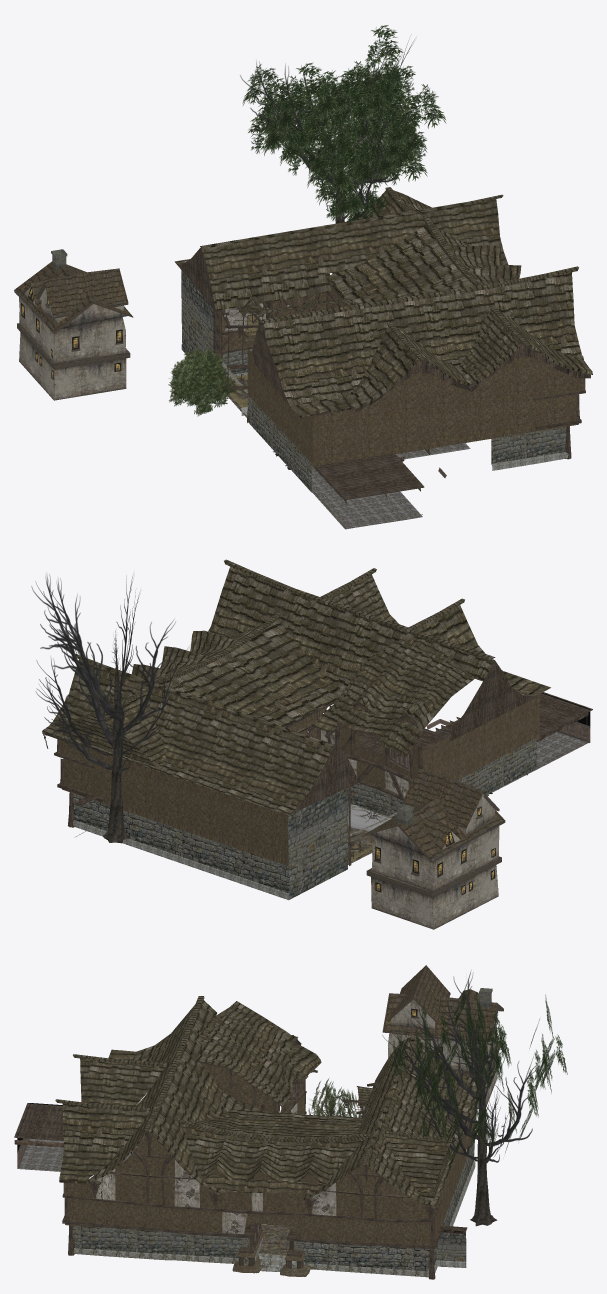
The model's file is Restaurant.glb.
3 renders of one model, top to bottom at view 1: azimuth 30°, elevation 25°; view 2: azimuth 150°, elevation 25°; view 3: azimuth 270°, elevation 25°, orthographic. The views are drawn at different scales.
Parts seen in each view (by area): view 1: Restaurant; view 2: Restaurant; view 3: Restaurant.
Boxes of the visible parts, x1,y1,x2,y2 form: Restaurant: [14, 25, 592, 529]; Restaurant: [31, 559, 592, 929]; Restaurant: [14, 965, 567, 1279].
Size of the model in its own units: 25.94 by 15.95 by 30.6.
34 materials, 33 textured.
